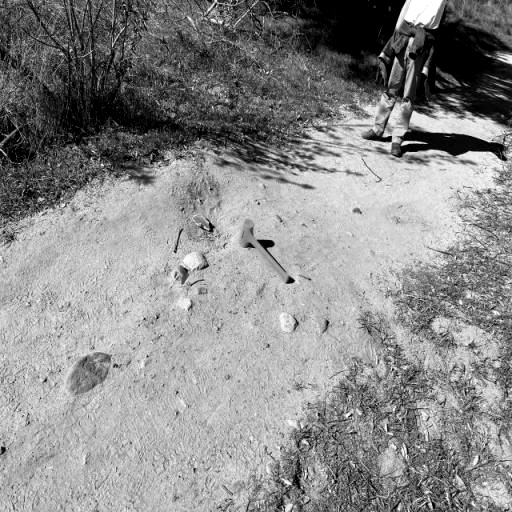mallet: (240, 218, 290, 284)
